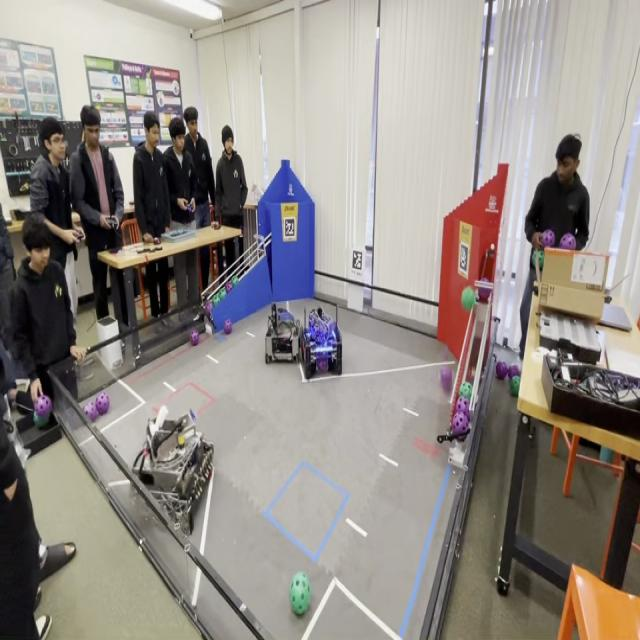artifact_green: (290, 572, 310, 615), (462, 287, 475, 311), (34, 412, 49, 429), (459, 382, 472, 400), (532, 251, 544, 270), (478, 286, 492, 302), (508, 363, 521, 380), (510, 376, 520, 397), (204, 300, 213, 316), (210, 294, 217, 310), (219, 288, 226, 301), (213, 293, 219, 305), (232, 277, 239, 286), (216, 292, 221, 303)
artifact_purple: (452, 412, 469, 436), (34, 395, 51, 418), (440, 368, 452, 393), (84, 401, 98, 421), (96, 393, 109, 414), (559, 234, 575, 250), (541, 229, 555, 247), (456, 398, 469, 417), (496, 361, 508, 380), (478, 286, 491, 301), (508, 364, 520, 380), (223, 317, 233, 335), (317, 358, 328, 372), (190, 330, 199, 346), (204, 302, 213, 316), (225, 281, 233, 293)
